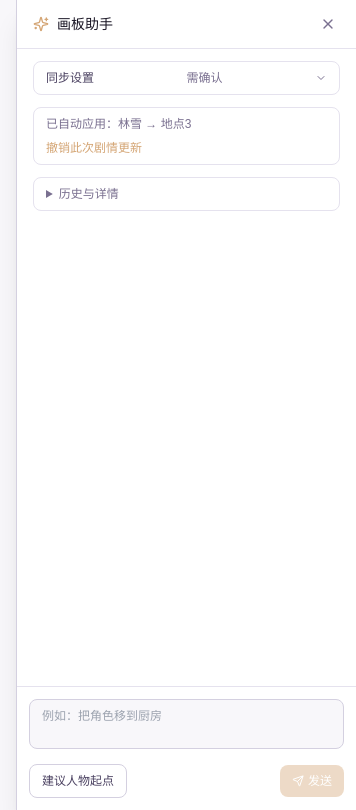
Scenario: 空间阶段 3：紧凑交互 › 长会话默认只显示最近结果，历史、重复消息与用量折叠，展开仍可撤销旧更新
This screenshot has width=356, height=810.
expect the text "已自动应用：林雪 → 地点3" is shown: met, box [46, 117, 191, 131]
expect the text "已自动应用：林雪 → 地点0" is not shown: met
Click the heading "历史与详情" at (89, 194), box [59, 187, 119, 201]
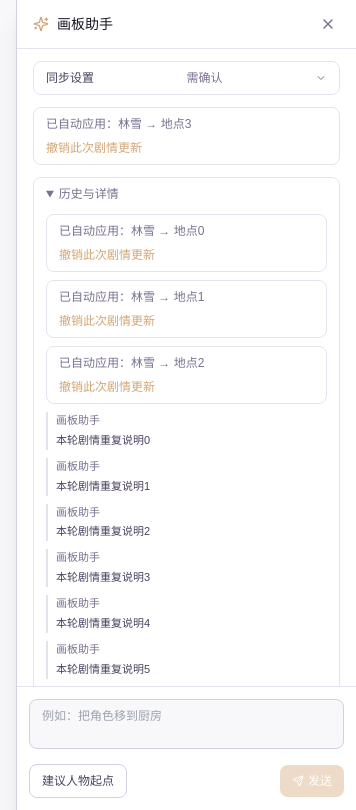
Click the button "撤销此次剧情更新" below "林雪 → 地点0" at (107, 255), box [59, 247, 155, 263]
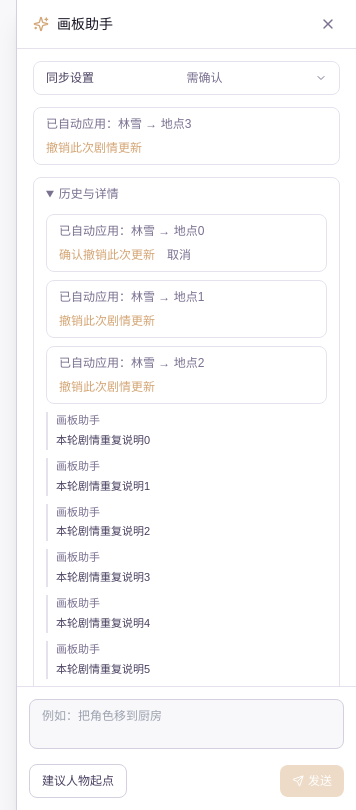
expect the button "确认撤销此次更新" is shown: met, box [59, 247, 155, 263]
